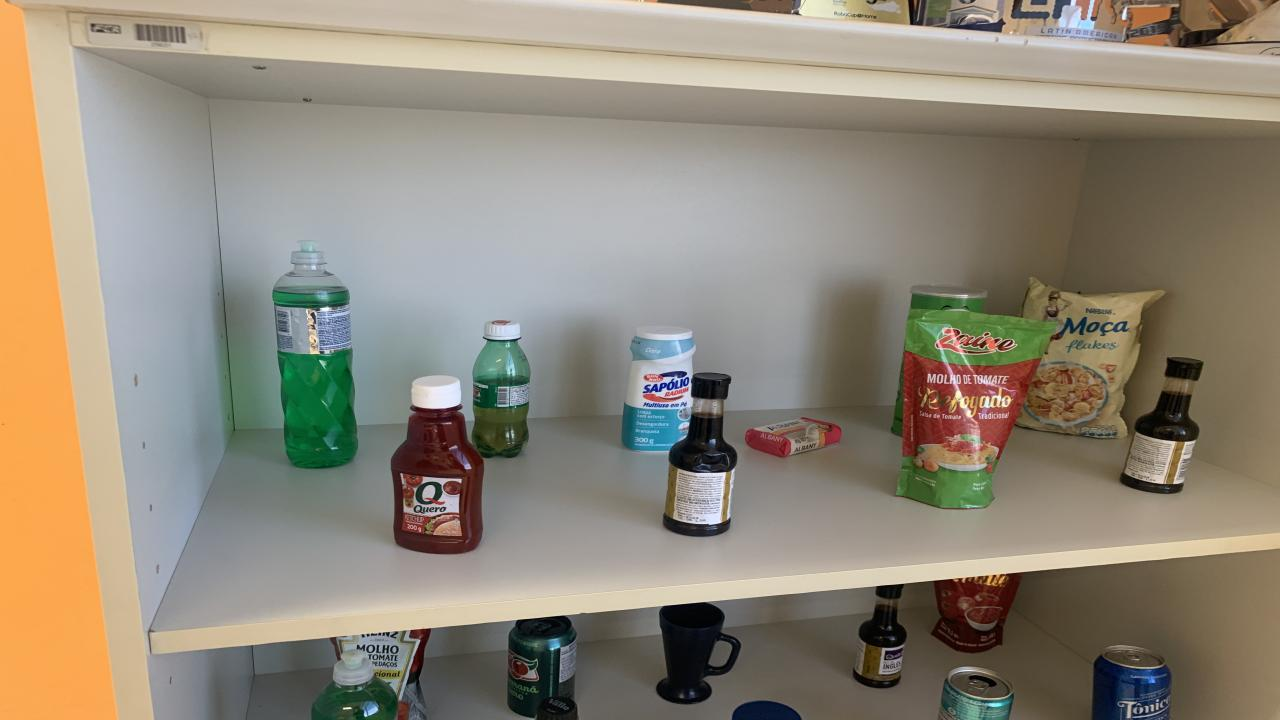Cleaner-Cleanup_Items: (622, 326, 695, 452)
Detergent-Cleanup_Items: (272, 242, 358, 467), (310, 651, 398, 720)
English_Sauce-Pantry_Items: (662, 373, 738, 536), (1120, 356, 1202, 493), (852, 585, 908, 688), (535, 696, 578, 720)
Flakes-Snacks: (1018, 278, 1165, 439)
Guarana-Drinks: (472, 321, 530, 458)
Guarana_Can-Drinks: (508, 615, 578, 716)
Ketchup-Pantry_Items: (390, 375, 482, 553)
Mayonnaise-Pantry_Items: (732, 701, 802, 720)
Pringles-Snacks: (910, 285, 988, 313)
Soap-Cleanup_Items: (745, 418, 842, 458)
Tea-Drinks: (938, 668, 1015, 720)
Tomato_Sauce-Pantry_Items: (898, 309, 1052, 508), (330, 628, 430, 720), (932, 574, 1022, 652)
Tonic-Drinks: (1092, 645, 1172, 720)
